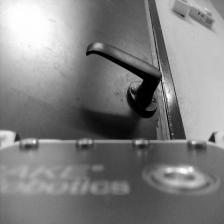Door Handle: (86, 41, 163, 118)
